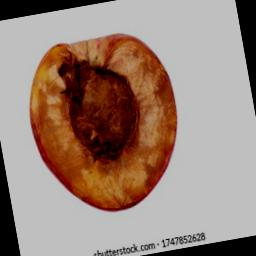Peach Rotten: (18, 23, 196, 223)
